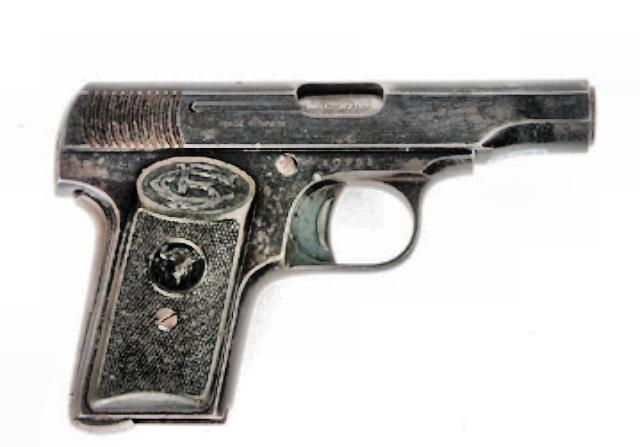pistol: (48, 77, 598, 433)
